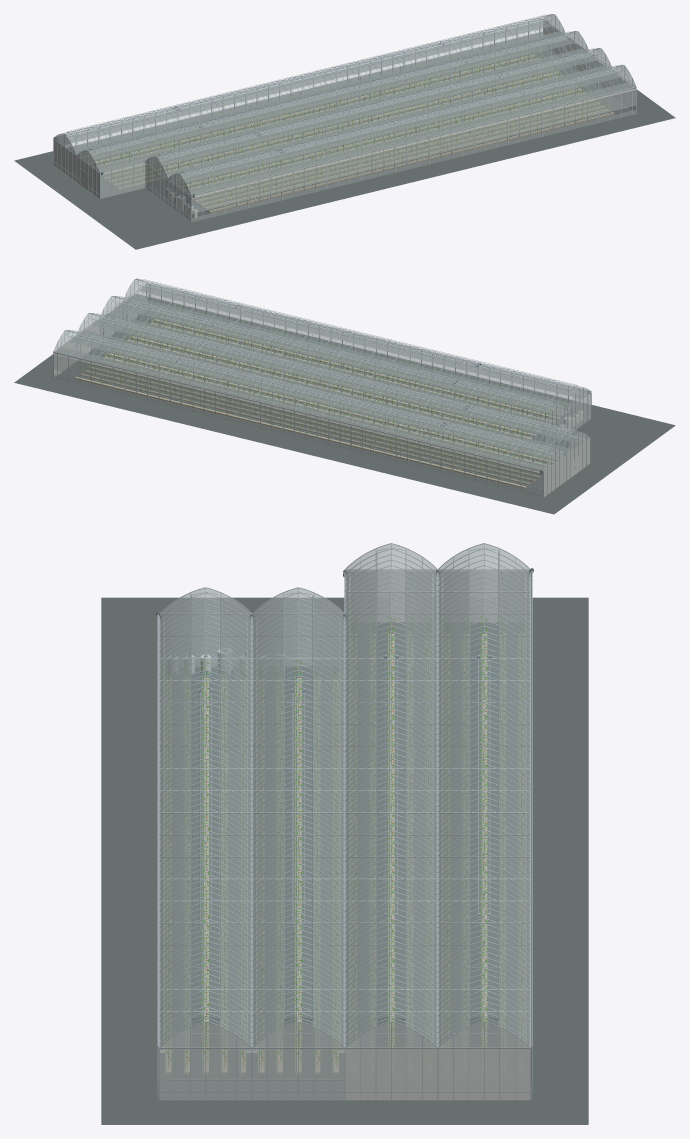
Rendered from greenhouse.glb.
The picture shows the model from 3 angles, top to bottom: view 1: azimuth 30°, elevation 25°; view 2: azimuth 150°, elevation 25°; view 3: azimuth 270°, elevation 25°; orthographic projection. The views are drawn at different scales.
Parts seen in each view (by area): view 1: GH_GROUND_PLANE, GH_SIDE_CURTAIN_LEFT_PANEL, GH_ROOF_COVER_S01, GH_ROOF_COVER_S03, GH_ROOF_COVER_S04, GH_ROOF_COVER_S02, GH_SHADE_SCREEN_S04_P, GH_SHADE_SCREEN_S03_P, GH_SHADE_SCREEN_S01_P, GH_SHADE_SCREEN_S02_P, GH_SIDE_CURTAIN_RIGHT_PANEL, GH_SHADE_SCREEN_S01_N (+51 smaller); view 2: GH_GROUND_PLANE, GH_SIDE_CURTAIN_RIGHT_PANEL, GH_ROOF_COVER_S04, GH_ROOF_COVER_S03, GH_ROOF_COVER_S01, GH_ROOF_COVER_S02, GH_SHADE_SCREEN_S03_N, GH_SHADE_SCREEN_S04_N, GH_SHADE_SCREEN_S01_N, GH_SHADE_SCREEN_S02_N, GH_SHADE_SCREEN_S04_P, GH_SHADE_SCREEN_S03_P (+50 smaller); view 3: GH_GROUND_PLANE, GH_REAR_WALL_SHELL, GH_ROOF_COVER_S04, GH_ROOF_COVER_S03, GH_ROOF_COVER_S02, GH_ROOF_COVER_S01, GH_FRONT_WALL_SHELL, GH_SHADE_SCREEN_S04_N, GH_SHADE_SCREEN_S03_P, GH_SHADE_SCREEN_S03_N, GH_SHADE_SCREEN_S04_P, GH_SHADE_SCREEN_S01_P (+34 smaller).
Part boxes in pixels (x1,y1,x2,y2): GH_GROUND_PLANE: (14, 32, 675, 249); GH_SIDE_CURTAIN_LEFT_PANEL: (192, 88, 636, 213); GH_ROOF_COVER_S01: (179, 66, 634, 193); GH_ROOF_COVER_S03: (88, 33, 586, 171); GH_ROOF_COVER_S04: (64, 15, 563, 153); GH_ROOF_COVER_S02: (156, 49, 610, 176); GH_SHADE_SCREEN_S04_P: (56, 20, 550, 144); GH_SHADE_SCREEN_S03_P: (79, 37, 573, 161); GH_SHADE_SCREEN_S01_P: (170, 71, 620, 184); GH_SHADE_SCREEN_S02_P: (146, 54, 597, 167); GH_SIDE_CURTAIN_RIGHT_PANEL: (66, 20, 542, 149); GH_SHADE_SCREEN_S01_N: (185, 82, 635, 195); GH_GROUND_PLANE: (14, 294, 675, 514); GH_SIDE_CURTAIN_RIGHT_PANEL: (53, 352, 543, 488); GH_ROOF_COVER_S04: (55, 330, 555, 469); GH_ROOF_COVER_S03: (79, 314, 578, 452); GH_ROOF_COVER_S01: (126, 280, 579, 407); GH_ROOF_COVER_S02: (103, 297, 556, 421); GH_SHADE_SCREEN_S03_N: (92, 319, 587, 443); GH_SHADE_SCREEN_S04_N: (69, 336, 564, 460); GH_SHADE_SCREEN_S01_N: (139, 285, 589, 398); GH_SHADE_SCREEN_S02_N: (116, 302, 566, 415); GH_SHADE_SCREEN_S04_P: (55, 347, 549, 471); GH_SHADE_SCREEN_S03_P: (79, 330, 572, 454); GH_GROUND_PLANE: (101, 597, 588, 1124); GH_REAR_WALL_SHELL: (159, 1022, 530, 1100); GH_ROOF_COVER_S04: (439, 544, 529, 1045); GH_ROOF_COVER_S03: (346, 544, 436, 1044); GH_ROOF_COVER_S02: (253, 588, 343, 1044); GH_ROOF_COVER_S01: (160, 588, 250, 1045); GH_FRONT_WALL_SHELL: (160, 544, 529, 666); GH_SHADE_SCREEN_S04_N: (438, 571, 470, 1047); GH_SHADE_SCREEN_S03_P: (405, 571, 436, 1047); GH_SHADE_SCREEN_S03_N: (345, 571, 377, 1047); GH_SHADE_SCREEN_S04_P: (498, 571, 529, 1047); GH_SHADE_SCREEN_S01_P: (219, 616, 251, 1049).
Size of the model in its own units: 108 by 7.77 by 42.
